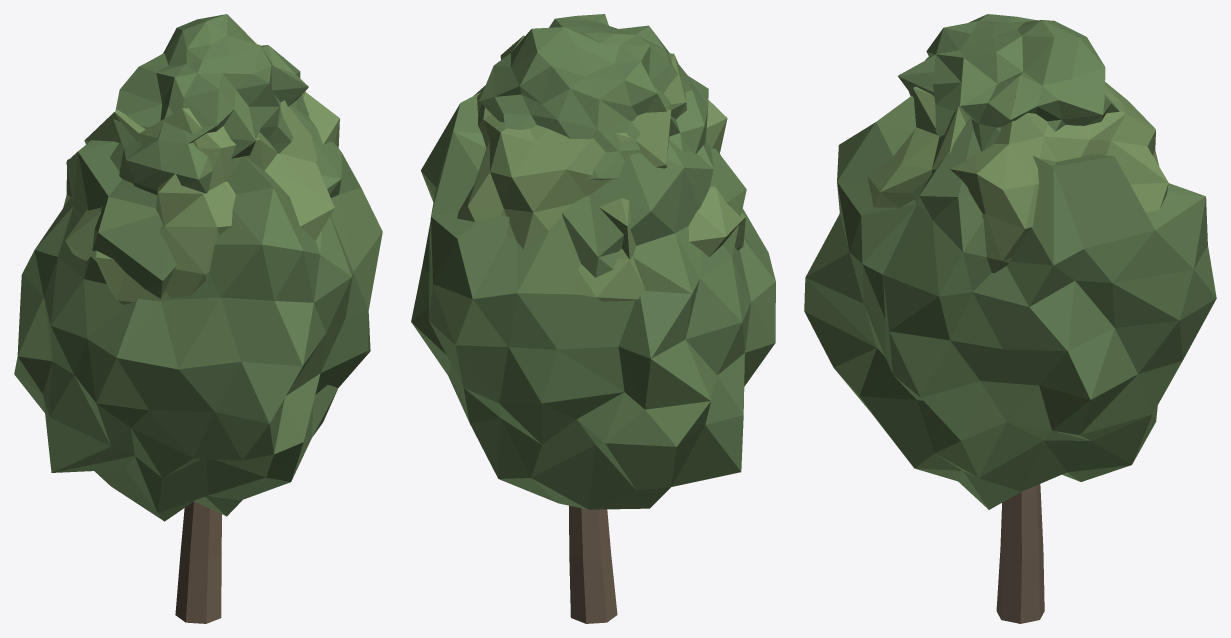
The model's file is SM_Tree_A.fbx.
The picture shows the model from 3 angles, left to right: view 1: azimuth 30°, elevation 25°; view 2: azimuth 150°, elevation 25°; view 3: azimuth 270°, elevation 25°; orthographic projection. The views are drawn at different scales.
Visible parts, largest first — view 1: SM_Tree_A; view 2: SM_Tree_A; view 3: SM_Tree_A.
Part boxes in pixels (box(x1,y1,x2,y2)): SM_Tree_A: box(14, 14, 382, 623); SM_Tree_A: box(411, 14, 775, 623); SM_Tree_A: box(804, 14, 1216, 623).
Bounding box in the file's own units: 4.11 × 7.54 × 4.67.
